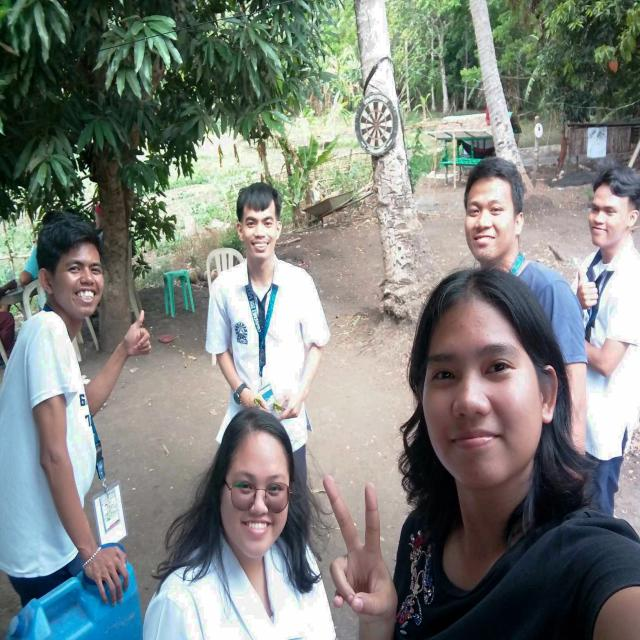other_gesture: (318, 472, 400, 625), (81, 543, 131, 607)
thumbs_up: (121, 307, 153, 359)
